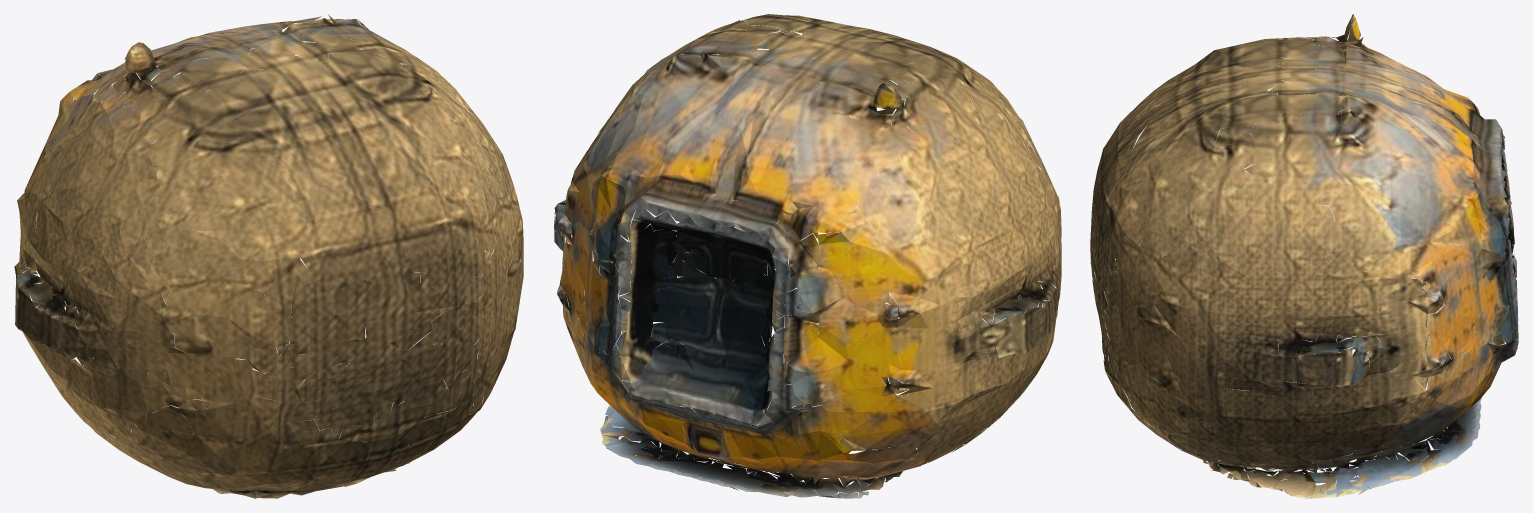
File: exit.glb
3 views of the same model, side by side, from view 1: azimuth 30°, elevation 25°; view 2: azimuth 150°, elevation 25°; view 3: azimuth 270°, elevation 25° (orthographic). The views are drawn at different scales.
Parts seen in each view (by area): view 1: world; view 2: world; view 3: world.
Part boxes in pixels (x1,y1,x2,y2): world: (14, 14, 523, 498); world: (554, 14, 1061, 498); world: (1090, 14, 1518, 498).
Size of the model in its own units: 0.926 by 0.7732 by 0.8069.
1 material, 1 textured.
